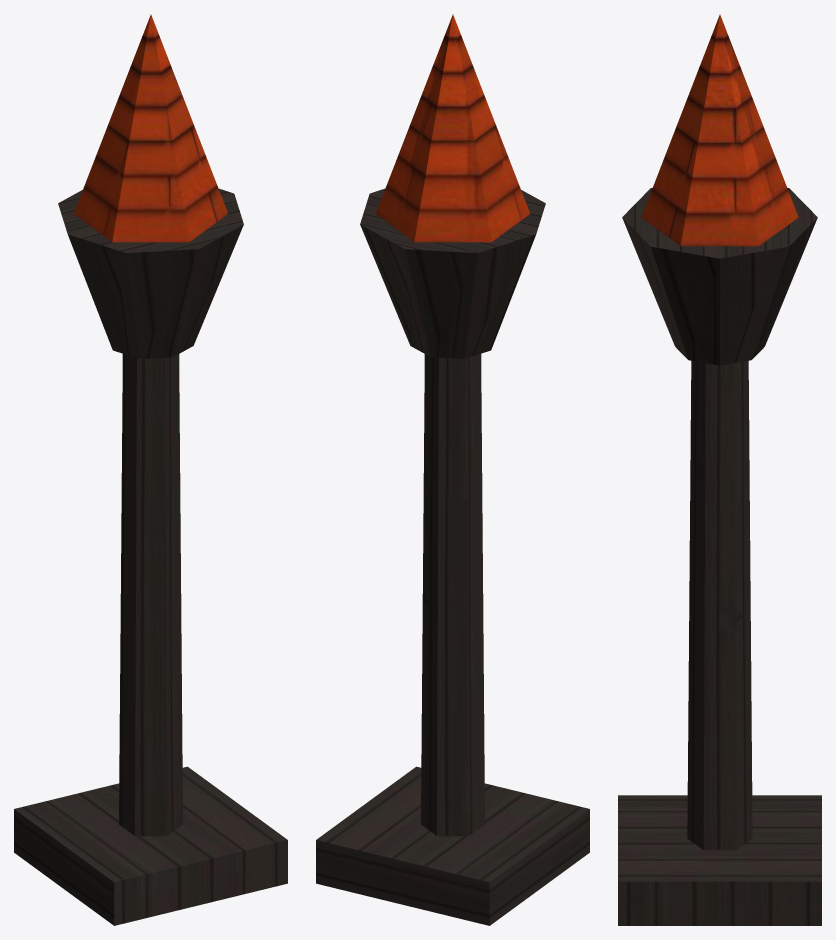
File: torch_stand_01.glb
3 renders of one model, left to right at view 1: azimuth 30°, elevation 25°; view 2: azimuth 150°, elevation 25°; view 3: azimuth 270°, elevation 25°, orthographic.
Parts seen in each view (by area): view 1: torch_stand_01; view 2: torch_stand_01; view 3: torch_stand_01.
Boxes of the visible parts, x1,y1,x2,y2 form: torch_stand_01: [14, 14, 287, 925]; torch_stand_01: [316, 14, 589, 925]; torch_stand_01: [618, 14, 821, 925].
Bounding box in the file's own units: 0.5 × 2.35 × 0.5.
2 materials, 2 textured.
